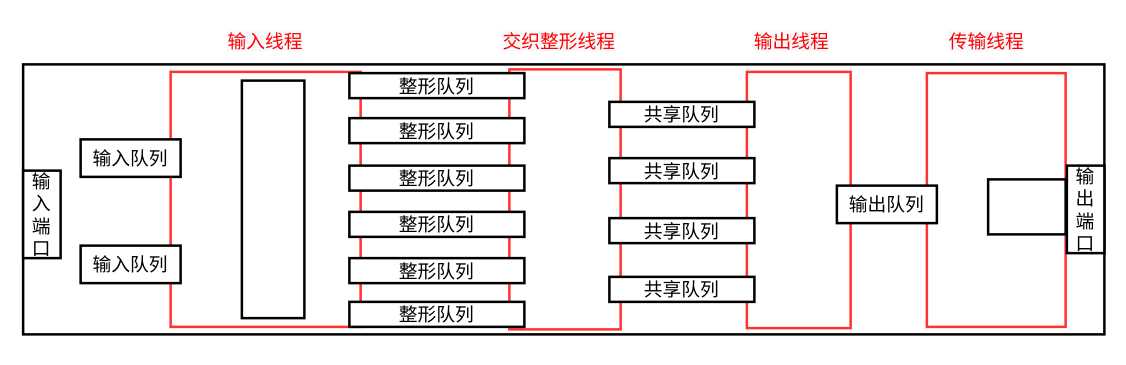
This 1126x365 diagram has some shape labels left out. Here are the shapes that lost their labels. From the top down, the box of each, then its label:
(240, 79, 305, 319): Ingress流水线
(986, 178, 1066, 235): libpcap库
